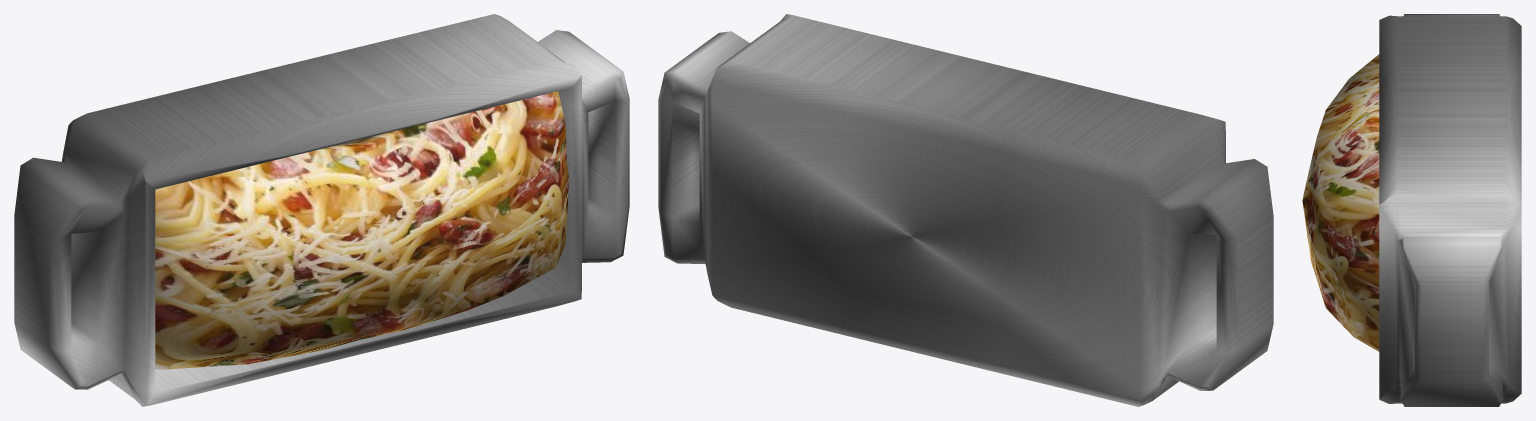
The model's file is CASSEROLE_02.FBX.
3 views of the same model, side by side, from view 1: azimuth 30°, elevation 25°; view 2: azimuth 150°, elevation 25°; view 3: azimuth 270°, elevation 25° (orthographic). The views are drawn at different scales.
Visible parts, largest first — view 1: Box004, Box005; view 2: Box004; view 3: Box004, Box005.
Part boxes in pixels (left/top/right/bottom): Box004: left=14, top=14, right=629, bottom=406; Box005: left=155, top=91, right=568, bottom=369; Box004: left=658, top=14, right=1273, bottom=406; Box004: left=1379, top=14, right=1521, bottom=406; Box005: left=1302, top=54, right=1379, bottom=351.
Size of the model in its own units: 4.32 by 1.75 by 1.62.
2 materials, 2 textured.
